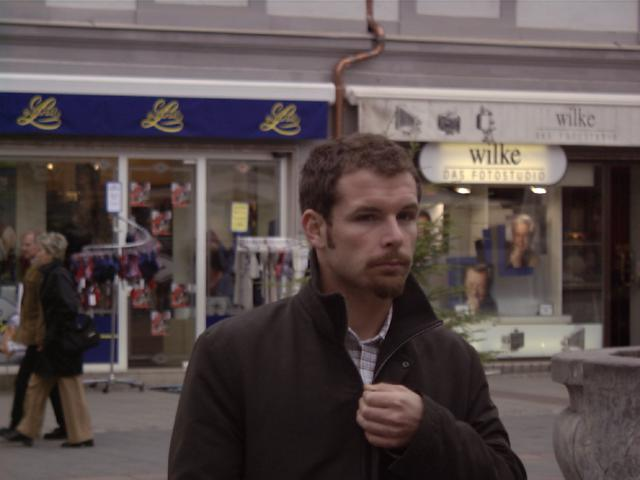Person: (167, 134, 532, 469)
